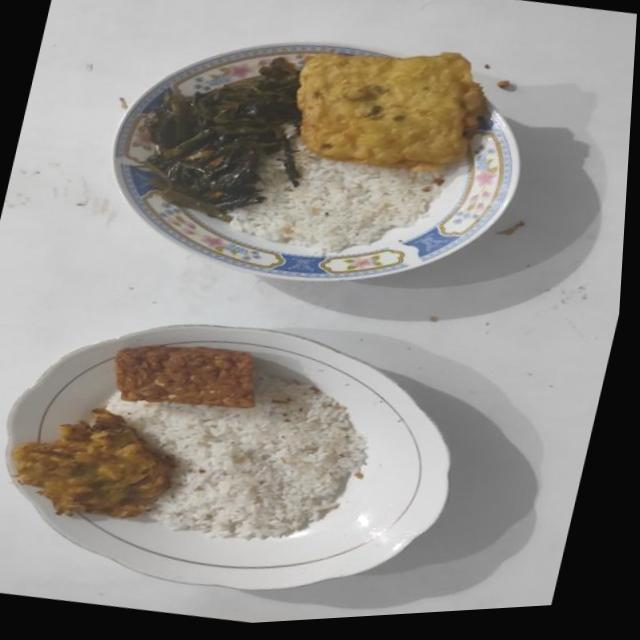nasi_putih: (106, 373, 367, 540), (228, 126, 452, 254)
tempe_goreng: (114, 345, 254, 408)
tumis_kangkung: (144, 58, 299, 216)
